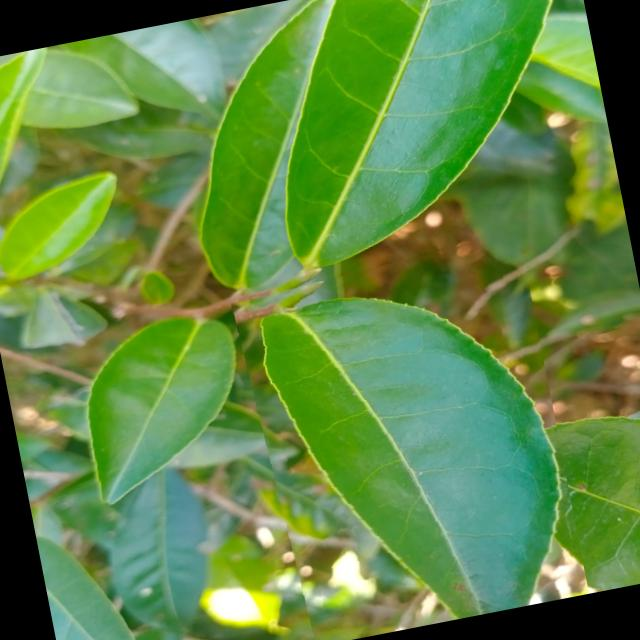Category D(7+ days, Not for Tea): (228, 230, 589, 640)
